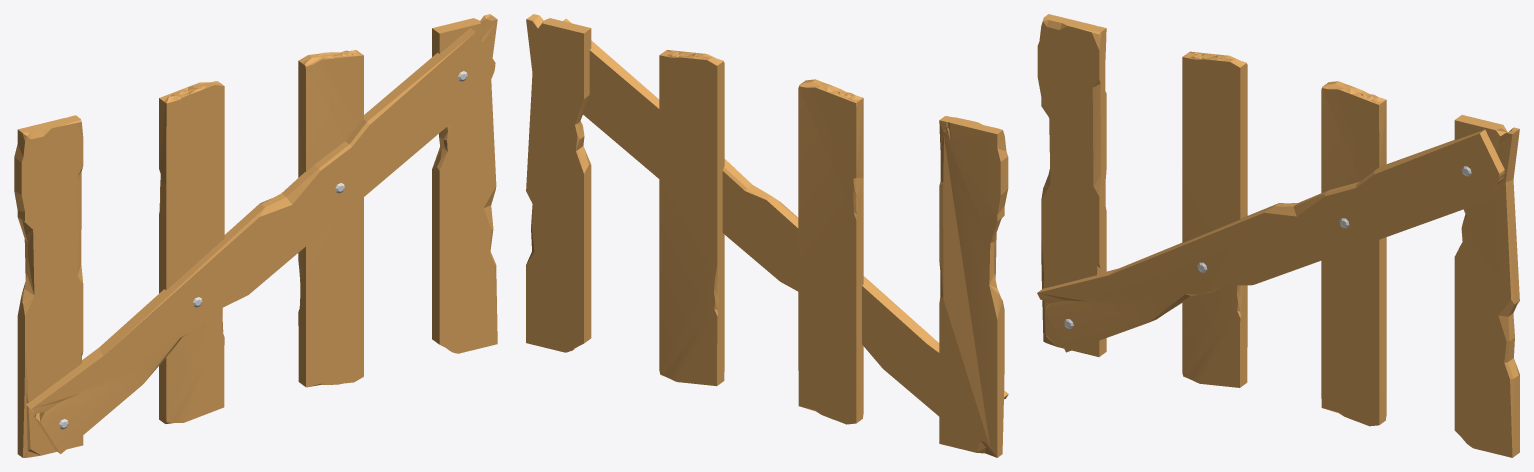
Rendered from Płotek1.fbx.
3 renders of one model, left to right at view 1: azimuth 30°, elevation 25°; view 2: azimuth 150°, elevation 25°; view 3: azimuth 330°, elevation 25°, orthographic.
Parts seen in each view (by area): view 1: Plotek2; view 2: Plotek2; view 3: Plotek2.
Part boxes in pixels (x1=…): Plotek2: x1=14, y1=14, x2=497, y2=457; Plotek2: x1=526, y1=14, x2=1008, y2=457; Plotek2: x1=1037, y1=14, x2=1519, y2=457.
Size of the model in its own units: 368 by 245 by 18.6.
